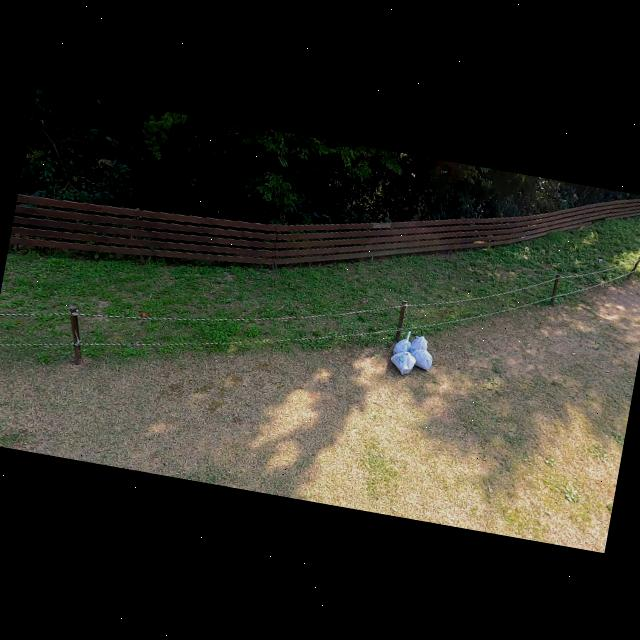trash: (387, 346, 417, 376), (390, 328, 418, 360), (408, 347, 435, 372), (408, 332, 431, 355)
